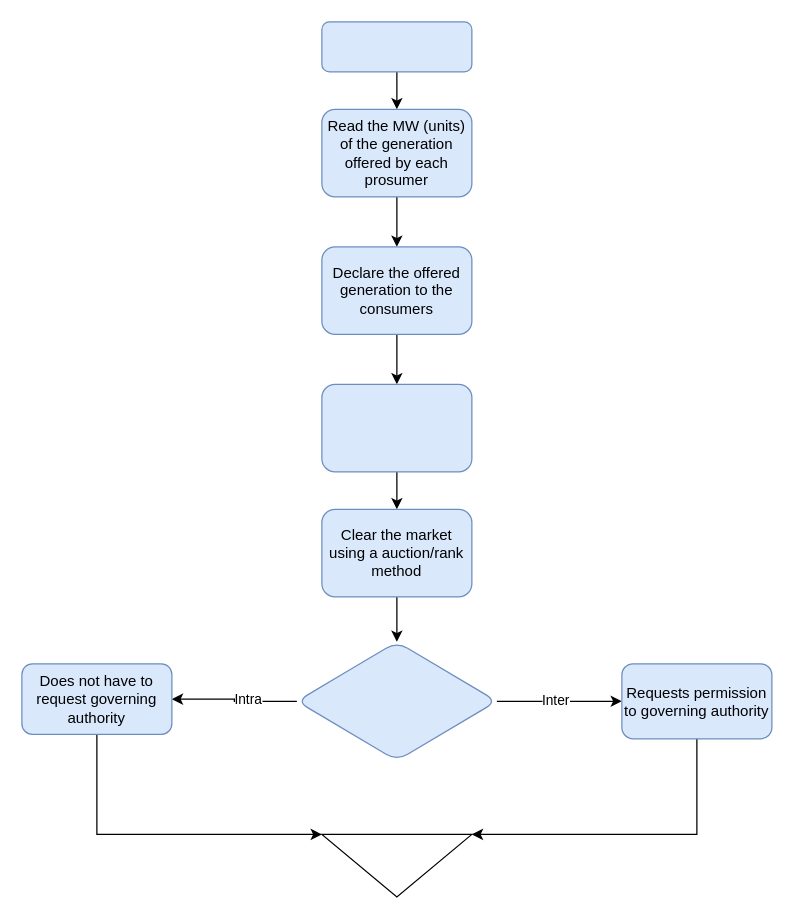
Some shapes in this 794 by 919 pixel diagram are drawn without their labels. Each missing label, with the centre of its shape:
"Check the nature of trade" belongs at (x=396, y=701).
"Initialise Smart Contract" belongs at (x=396, y=46).
"Start the auction/bidding" belongs at (x=396, y=427).
